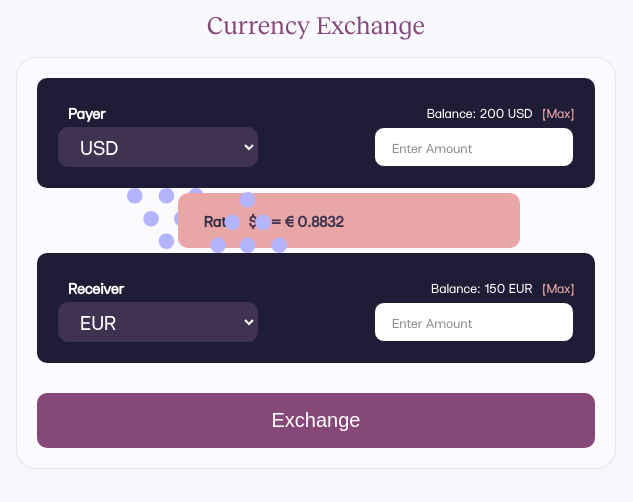
Dont accpect negative number
Expected: the text "$ 1 = € 0.8832" is shown, [248,212,344,230]
Type "-5" into the number field named "Payer-input" at (474, 147), box [374,127,574,167]
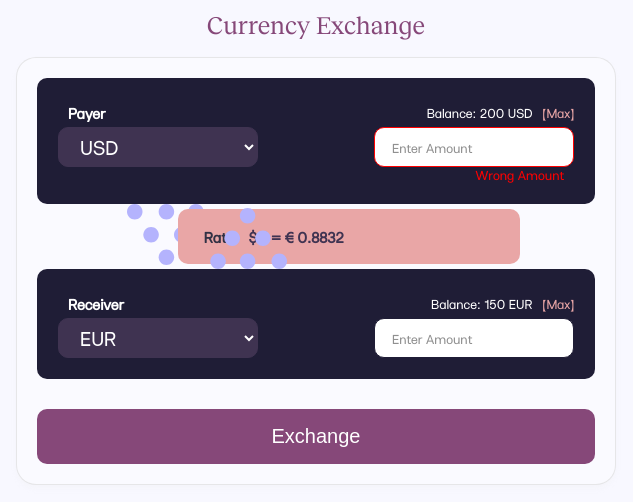
Now the text "Wrong Amount" is shown, box [475,167,564,183]
